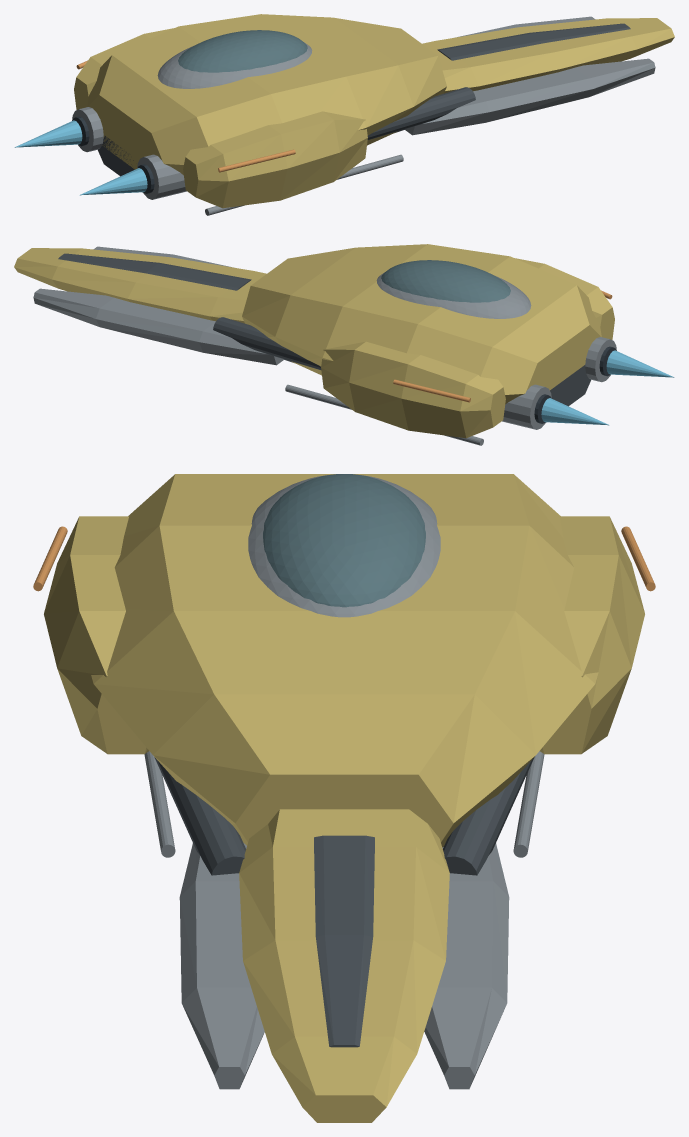
Rendered from scud_gold_flight.glb.
3 renders of one model, top to bottom at view 1: azimuth 30°, elevation 25°; view 2: azimuth 150°, elevation 25°; view 3: azimuth 270°, elevation 25°, orthographic. The views are drawn at different scales.
Parts seen in each view (by area): view 1: rear_core_0, rear_side_body_5, forward_body_2, forward_side_fin_7, canopy_glass_4, front_inset_15, canopy_rim_3, rear_engine_housing_9, engine_flame_12, connecting_arm_8, lower_keel_1, underside_ski_13 (+2 smaller); view 2: rear_core_0, rear_side_body_5, forward_body_2, forward_side_fin_7, canopy_glass_4, front_inset_15, canopy_rim_3, rear_engine_housing_9, engine_flame_12, connecting_arm_8, lower_keel_1, underside_ski_13 (+2 smaller); view 3: rear_core_0, forward_body_2, rear_side_body_5, forward_side_fin_7, canopy_glass_4, front_inset_15, connecting_arm_8, canopy_rim_3, underside_ski_13, side_light_6.
Part boxes in pixels (x1,y1,x2,y2): rear_core_0: [87, 14, 446, 175]; rear_side_body_5: [74, 28, 367, 208]; forward_body_2: [422, 18, 674, 93]; forward_side_fin_7: [404, 16, 655, 135]; canopy_glass_4: [178, 30, 307, 72]; front_inset_15: [437, 23, 630, 60]; canopy_rim_3: [157, 42, 312, 88]; rear_engine_housing_9: [72, 107, 186, 199]; engine_flame_12: [14, 120, 147, 195]; connecting_arm_8: [367, 87, 475, 139]; lower_keel_1: [98, 129, 404, 192]; underside_ski_13: [205, 154, 403, 215]; rear_core_0: [242, 244, 601, 404]; rear_side_body_5: [321, 258, 614, 438]; forward_body_2: [14, 248, 266, 323]; forward_side_fin_7: [33, 246, 284, 365]; canopy_glass_4: [381, 260, 510, 302]; front_inset_15: [58, 253, 251, 290]; canopy_rim_3: [376, 272, 531, 318]; rear_engine_housing_9: [502, 337, 616, 429]; engine_flame_12: [541, 350, 674, 425]; connecting_arm_8: [213, 317, 321, 369]; lower_keel_1: [284, 359, 590, 422]; underside_ski_13: [285, 384, 483, 445]; rear_core_0: [91, 474, 598, 847]; forward_body_2: [239, 809, 449, 1122]; rear_side_body_5: [44, 516, 644, 754]; forward_side_fin_7: [179, 843, 509, 1089]; canopy_glass_4: [263, 474, 425, 607]; front_inset_15: [314, 835, 374, 1047]; connecting_arm_8: [154, 757, 534, 875]; canopy_rim_3: [248, 474, 440, 617]; underside_ski_13: [144, 751, 544, 857]; side_light_6: [33, 526, 655, 591].
Size of the model in its own units: 7.45 by 1.37 by 3.25.
